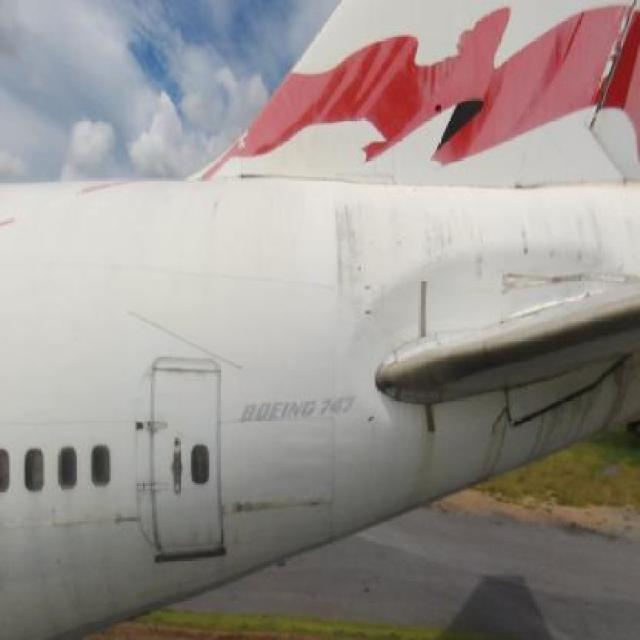Rust: (476, 377, 601, 506), (332, 178, 398, 350), (506, 186, 636, 271), (403, 187, 492, 276), (397, 400, 445, 500), (148, 349, 223, 388), (222, 485, 276, 529), (203, 183, 231, 229), (103, 505, 152, 530), (301, 492, 342, 514)
Scartch: (497, 260, 606, 295)
